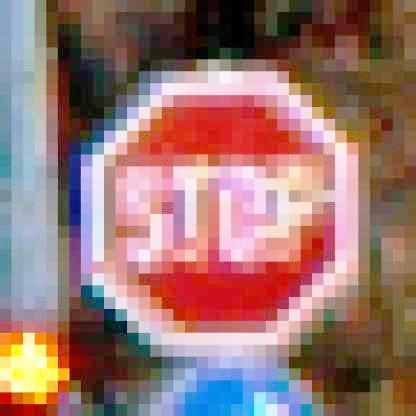Stop Sign: (91, 67, 372, 348)
